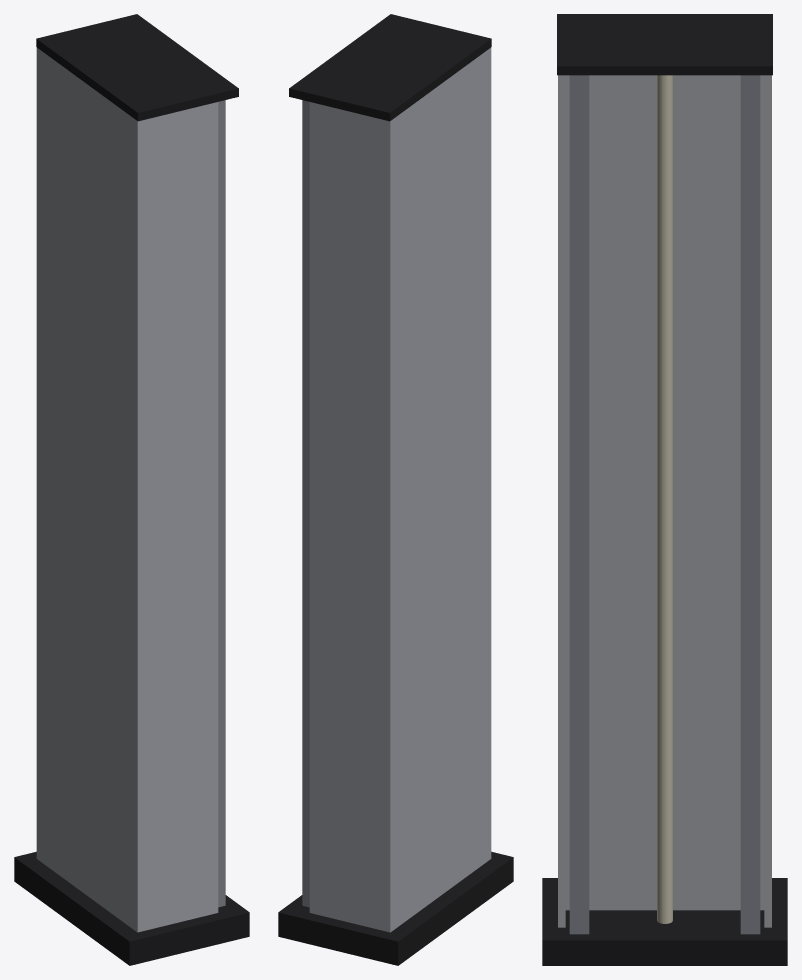
Rendered from column.dae.
3 views of the same model, side by side, from view 1: azimuth 30°, elevation 25°; view 2: azimuth 150°, elevation 25°; view 3: azimuth 270°, elevation 25° (orthographic). The views are drawn at different scales.
Visible parts, largest first — view 1: n1, n0, n2; view 2: n1, n0, n2; view 3: n1, n2, n0, n3.
Boxes of the visible parts, x1=… form: n1: x1=36, y1=47, x2=218, y2=932; n0: x1=14, y1=14, x2=249, y2=965; n2: x1=218, y1=100, x2=225, y2=907; n1: x1=309, y1=47, x2=491, y2=932; n0: x1=278, y1=14, x2=513, y2=965; n2: x1=302, y1=100, x2=309, y2=907; n1: x1=558, y1=75, x2=771, y2=927; n2: x1=569, y1=75, x2=760, y2=934; n0: x1=542, y1=14, x2=787, y2=965; n3: x1=657, y1=75, x2=672, y2=923.
Size of the model in its own units: 0.15 by 0.25 by 1.01.
